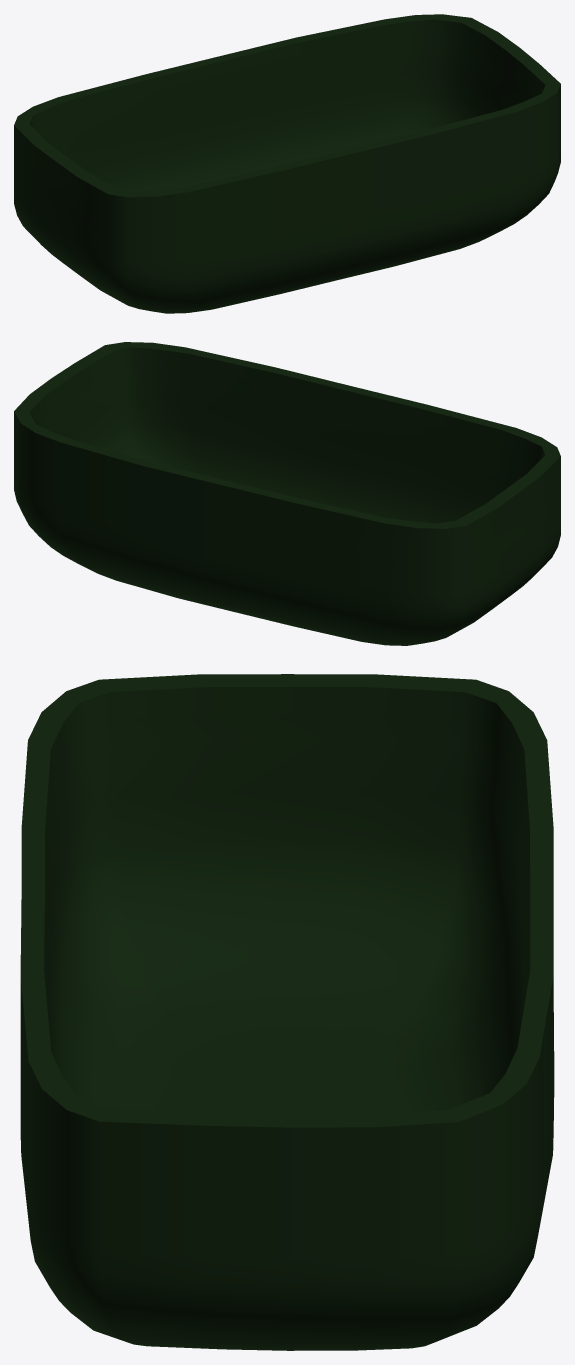
File: Plant_Cell_Wall.FBX
3 views of the same model, one above another, from view 1: azimuth 30°, elevation 25°; view 2: azimuth 150°, elevation 25°; view 3: azimuth 270°, elevation 25° (orthographic). The views are drawn at different scales.
Parts seen in each view (by area): view 1: Cell_Wall_Plant_Cell; view 2: Cell_Wall_Plant_Cell; view 3: Cell_Wall_Plant_Cell.
Boxes of the visible parts, box(x1,y1,x2,y2) form: Cell_Wall_Plant_Cell: box(14, 14, 560, 313); Cell_Wall_Plant_Cell: box(14, 342, 560, 645); Cell_Wall_Plant_Cell: box(20, 674, 554, 1350).
Bounding box in the file's own units: 282 × 80.9 × 140.
